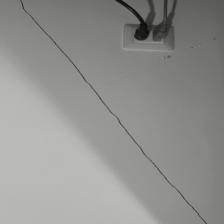Medium: (63, 54, 204, 218)
